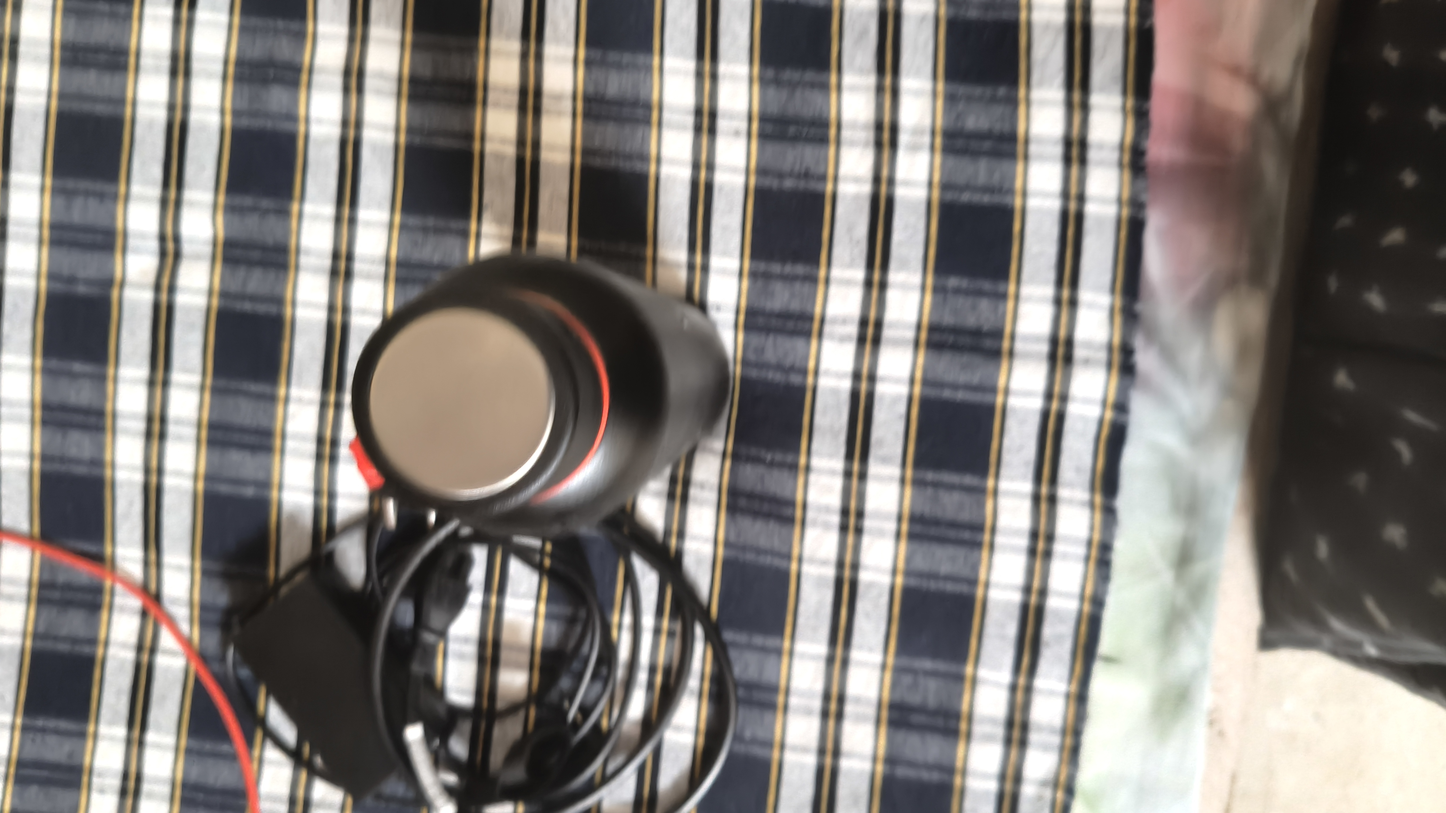bottles: (352, 255, 728, 536)
